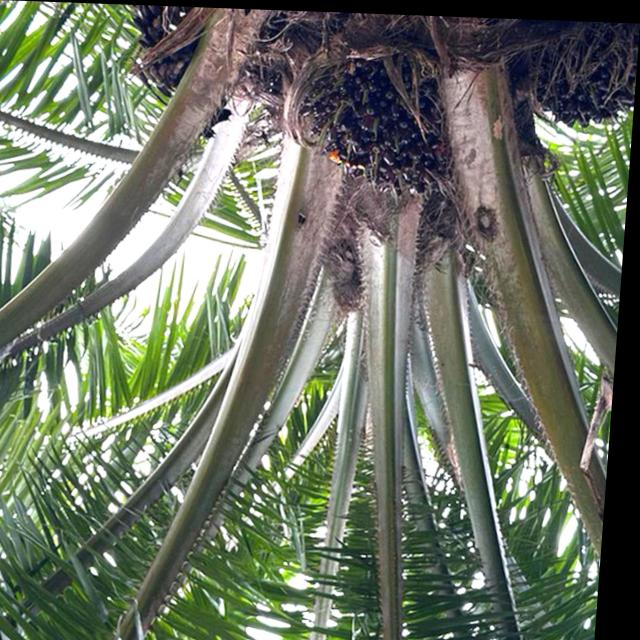almost: (288, 47, 466, 202)
